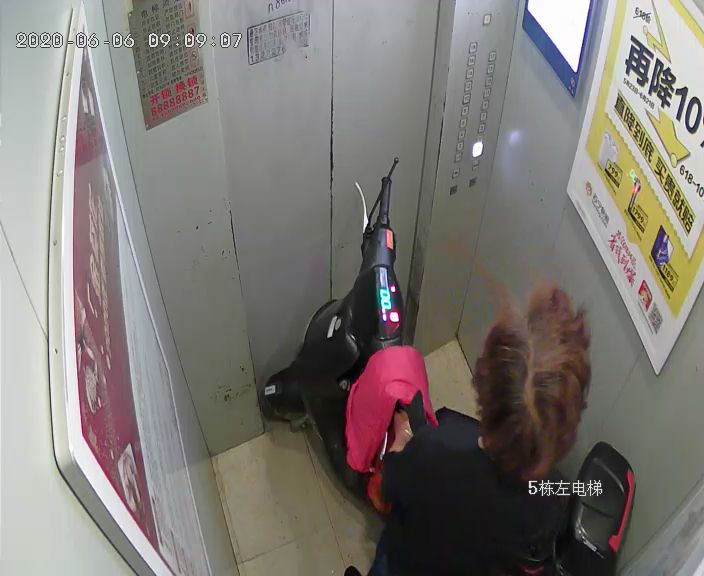Electric-bicycle: (270, 197, 633, 575)
